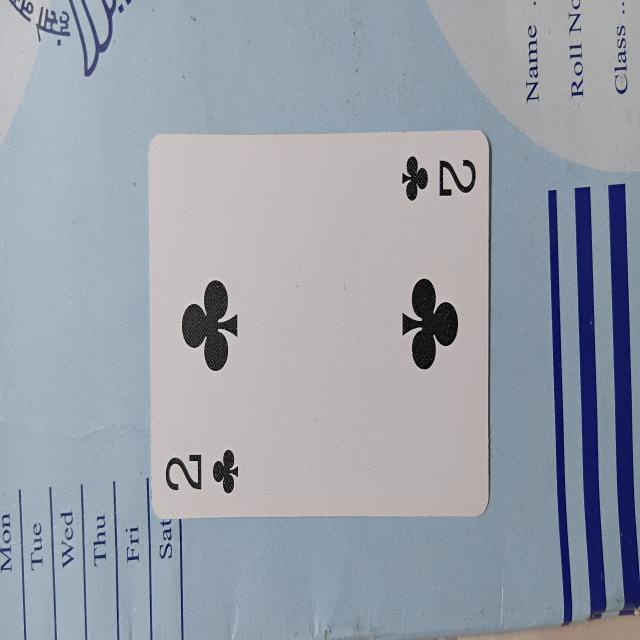2C: (146, 124, 493, 522)
